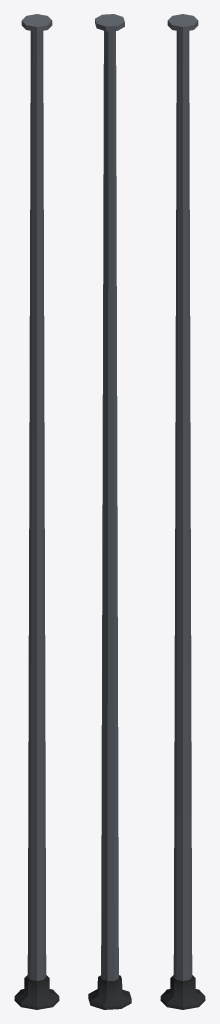
The model's file is SM_Prop_Pole_Large_01.fbx.
3 renders of one model, left to right at view 1: azimuth 90°, elevation 25°; view 2: azimuth 210°, elevation 25°; view 3: azimuth 270°, elevation 25°, orthographic.
Visible parts, largest first — view 1: SM_Prop_Pole_Large_01; view 2: SM_Prop_Pole_Large_01; view 3: SM_Prop_Pole_Large_01.
Part boxes in pixels (left/top/right/bottom): SM_Prop_Pole_Large_01: left=14, top=14, right=59, bottom=1009; SM_Prop_Pole_Large_01: left=88, top=14, right=131, bottom=1009; SM_Prop_Pole_Large_01: left=160, top=14, right=205, bottom=1009.
Bounding box in the file's own units: 124 × 2969 × 124.
